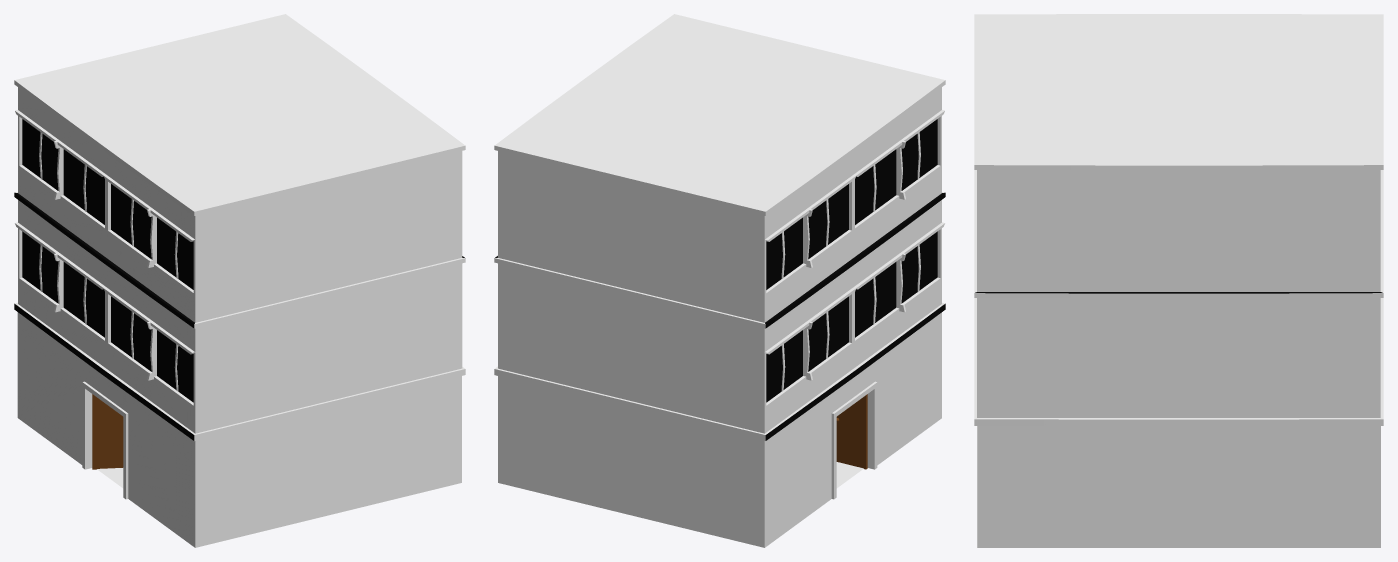
File: EdificioEntrega.fbx
The picture shows the model from 3 angles, left to right: view 1: azimuth 30°, elevation 25°; view 2: azimuth 150°, elevation 25°; view 3: azimuth 270°, elevation 25°; orthographic projection. The views are drawn at different scales.
Parts seen in each view (by area): view 1: Edificio.001, PuertaEdificioDer; view 2: Edificio.001, PuertaEdificioIzq; view 3: Edificio.001.
Boxes of the visible parts, box(x1,y1,x2,y2) form: Edificio.001: box(14, 14, 465, 547); PuertaEdificioDer: box(92, 394, 123, 469); Edificio.001: box(494, 14, 945, 547); PuertaEdificioIzq: box(836, 394, 867, 469); Edificio.001: box(974, 14, 1383, 547).
Bounding box in the file's own units: 896 × 1052 × 1014.
